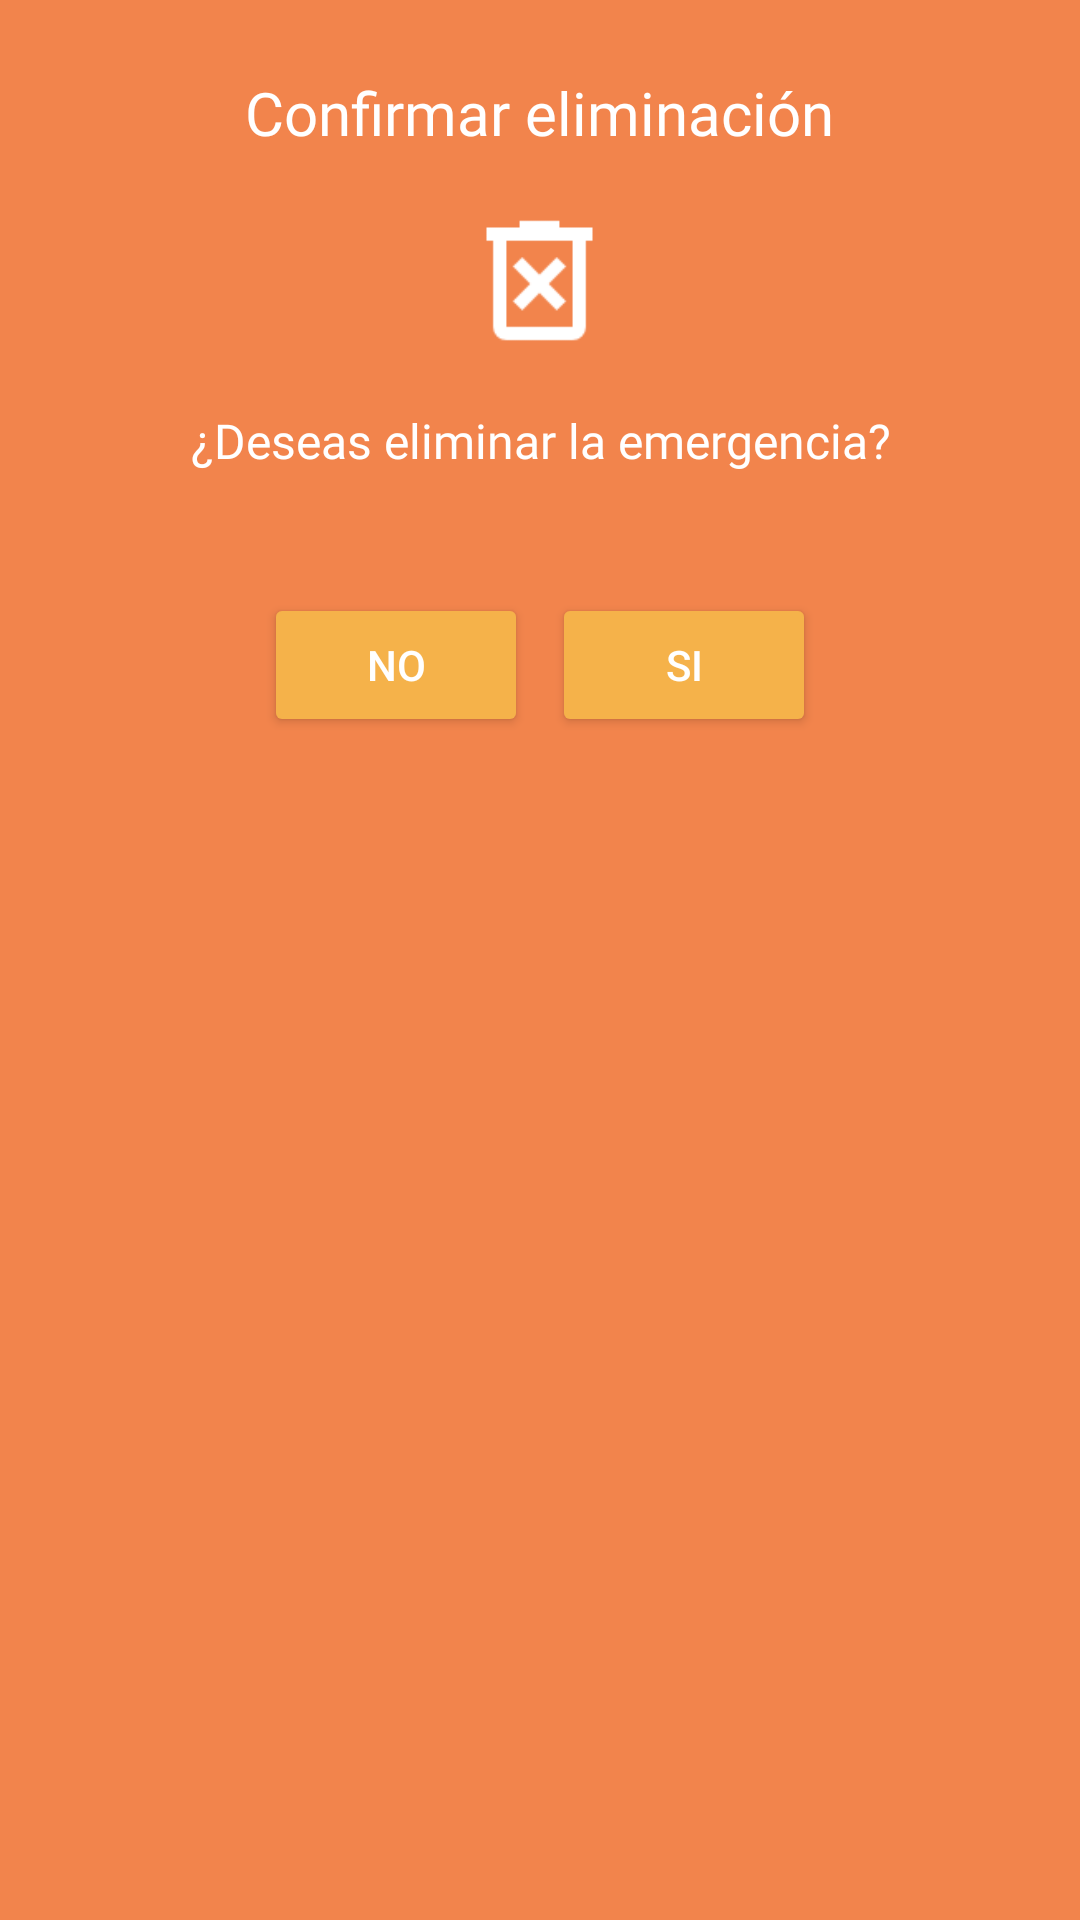

Screen size 1080 × 1920. Icon name, then its center in pixels as (x=x, y=y):
deleteforever: (x=539, y=280)
